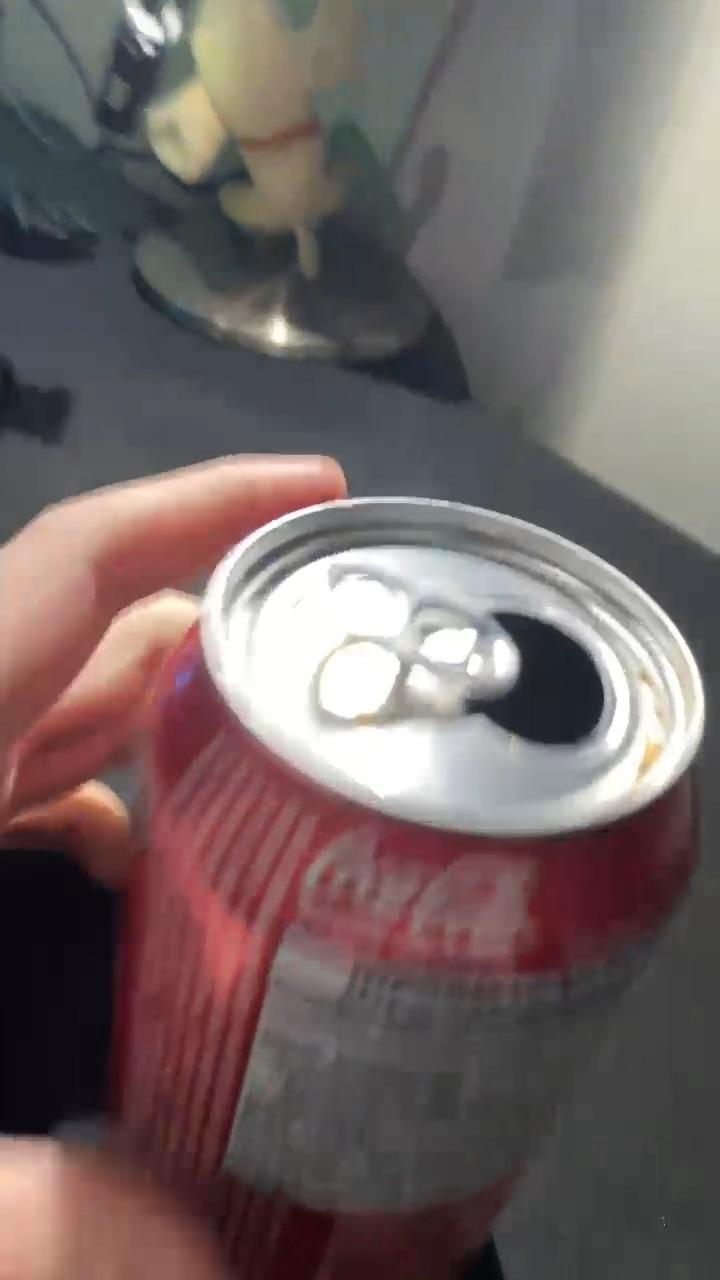coke: (114, 501, 707, 1271)
